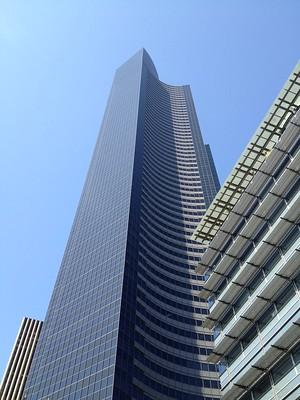building: (22, 45, 231, 400)
